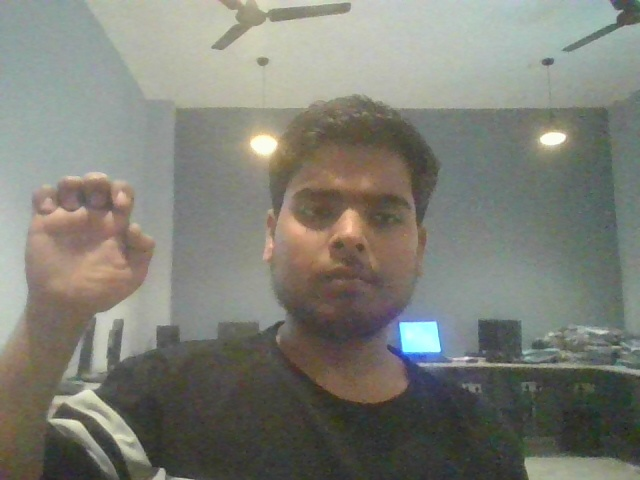C: (1, 161, 170, 329)
